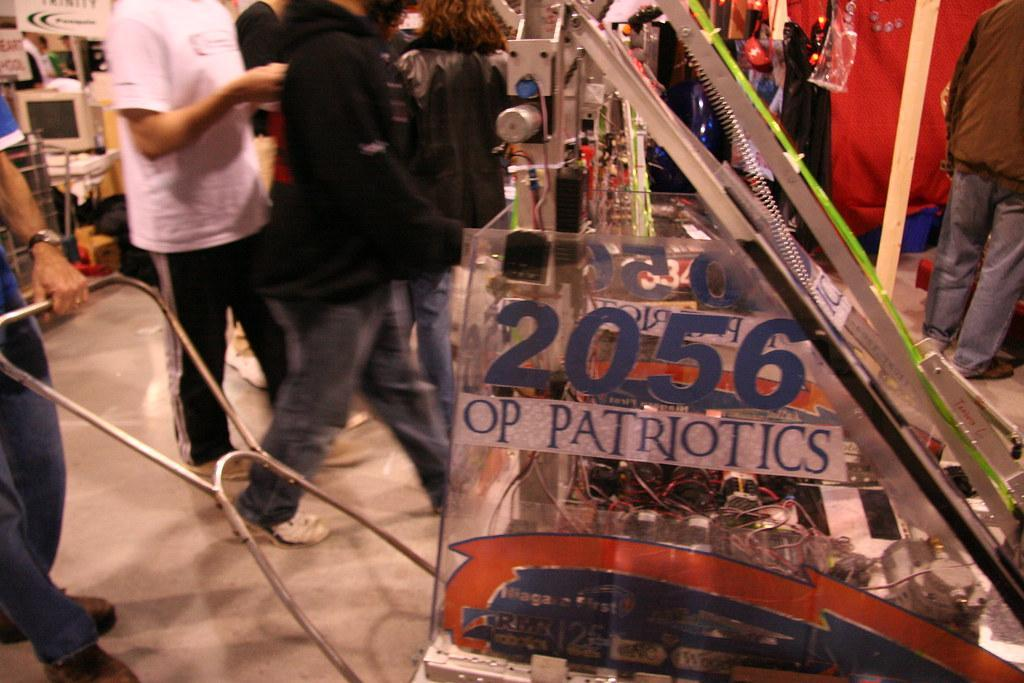robot: (410, 0, 1024, 683)
